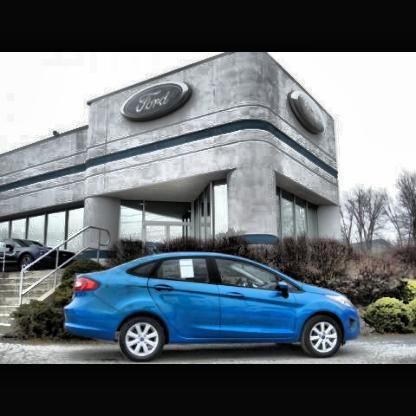Ford Fiesta Sedan 2012: (65, 254, 363, 365)
